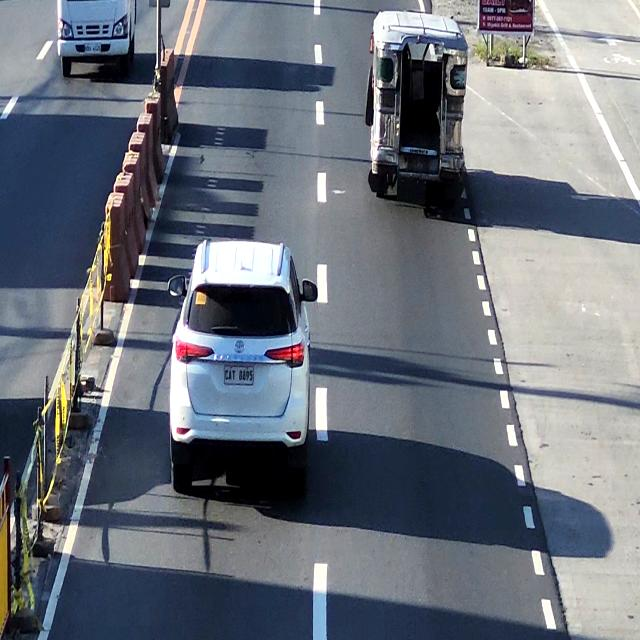Car: (165, 240, 320, 503)
Jeep: (369, 16, 468, 204)
License-Plate: (224, 362, 256, 386)
